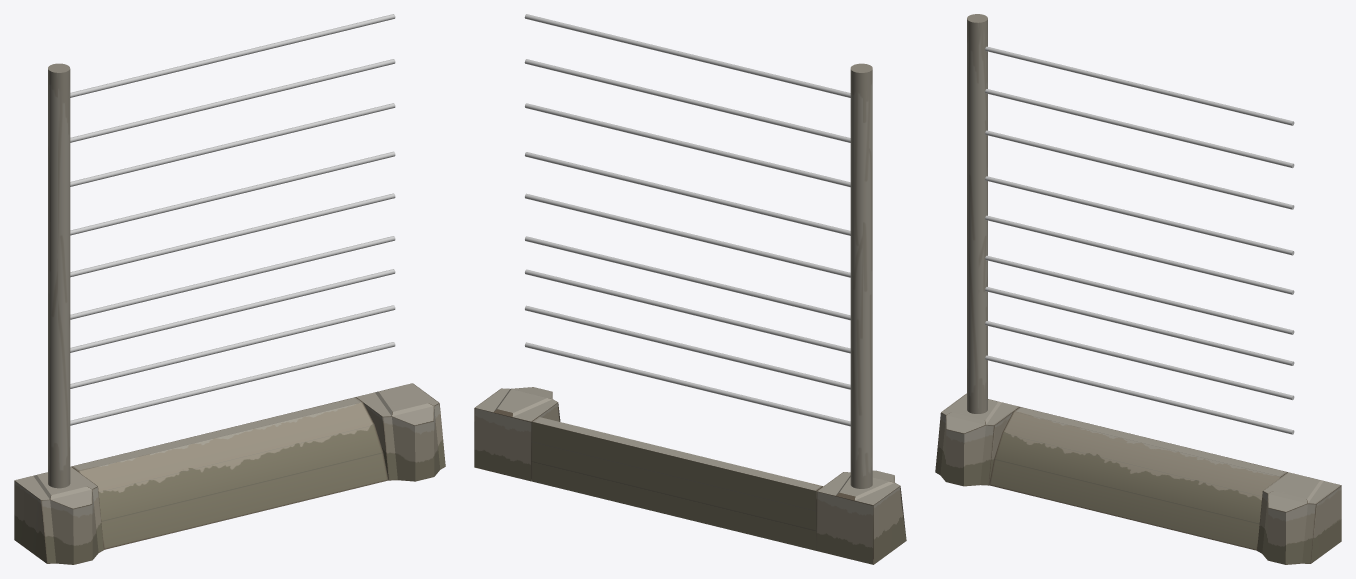
Rendered from electric fence fixed.fbx.
3 views of the same model, side by side, from view 1: azimuth 30°, elevation 25°; view 2: azimuth 150°, elevation 25°; view 3: azimuth 330°, elevation 25° (orthographic). The views are drawn at different scales.
Parts seen in each view (by area): view 1: electric_fence; view 2: electric_fence; view 3: electric_fence.
Part boxes in pixels (x1,y1,x2,y2): electric_fence: [14, 14, 445, 564]; electric_fence: [474, 14, 906, 564]; electric_fence: [935, 14, 1341, 564].
Size of the model in its own units: 1400 by 1600 by 246.
